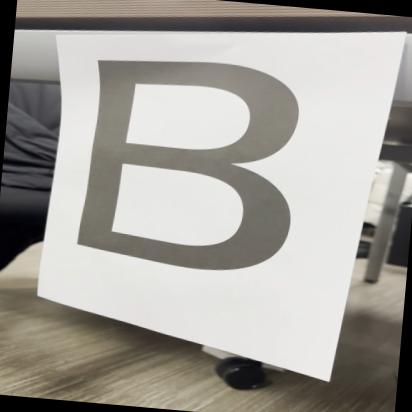seat: (67, 39, 320, 295)
